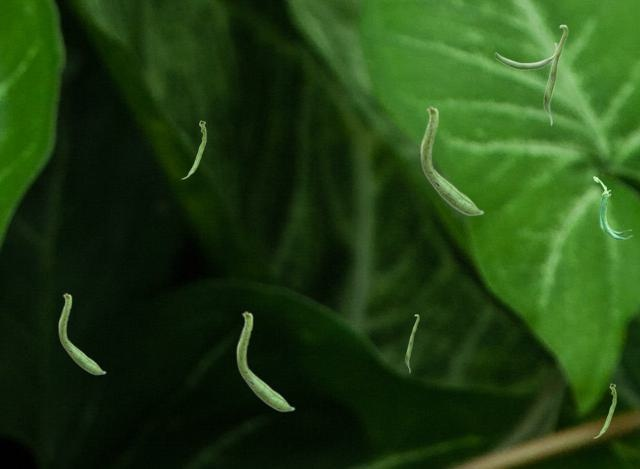french_bean: (420, 105, 483, 215), (236, 310, 294, 411), (58, 292, 105, 374), (543, 24, 567, 125), (593, 176, 631, 239), (494, 43, 556, 69), (181, 120, 205, 178), (593, 383, 615, 437), (405, 314, 418, 372)
